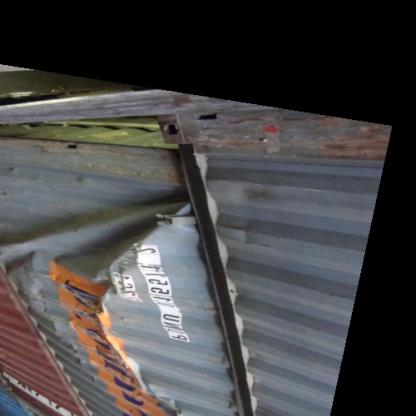Damage: (96, 274, 178, 415), (46, 195, 188, 269), (3, 236, 50, 306)
